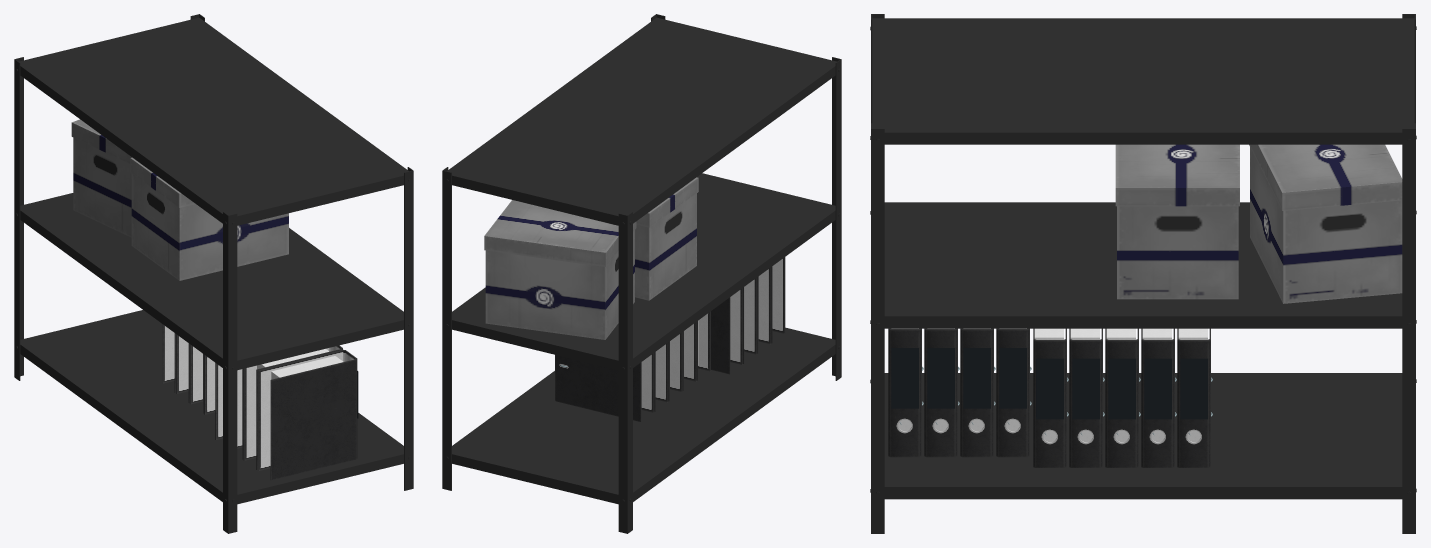
The model's file is meshset_police_rack.fbx.
The picture shows the model from 3 angles, left to right: view 1: azimuth 30°, elevation 25°; view 2: azimuth 150°, elevation 25°; view 3: azimuth 270°, elevation 25°; orthographic projection. The views are drawn at different scales.
Parts seen in each view (by area): view 1: _mesh; view 2: _mesh; view 3: _mesh.
Boxes of the visible parts, box(x1,y1,x2,y2) form: _mesh: box(14, 14, 413, 533); _mesh: box(442, 14, 841, 533); _mesh: box(870, 14, 1416, 533).
Bounding box in the file's own units: 61.36 × 100 × 122.
